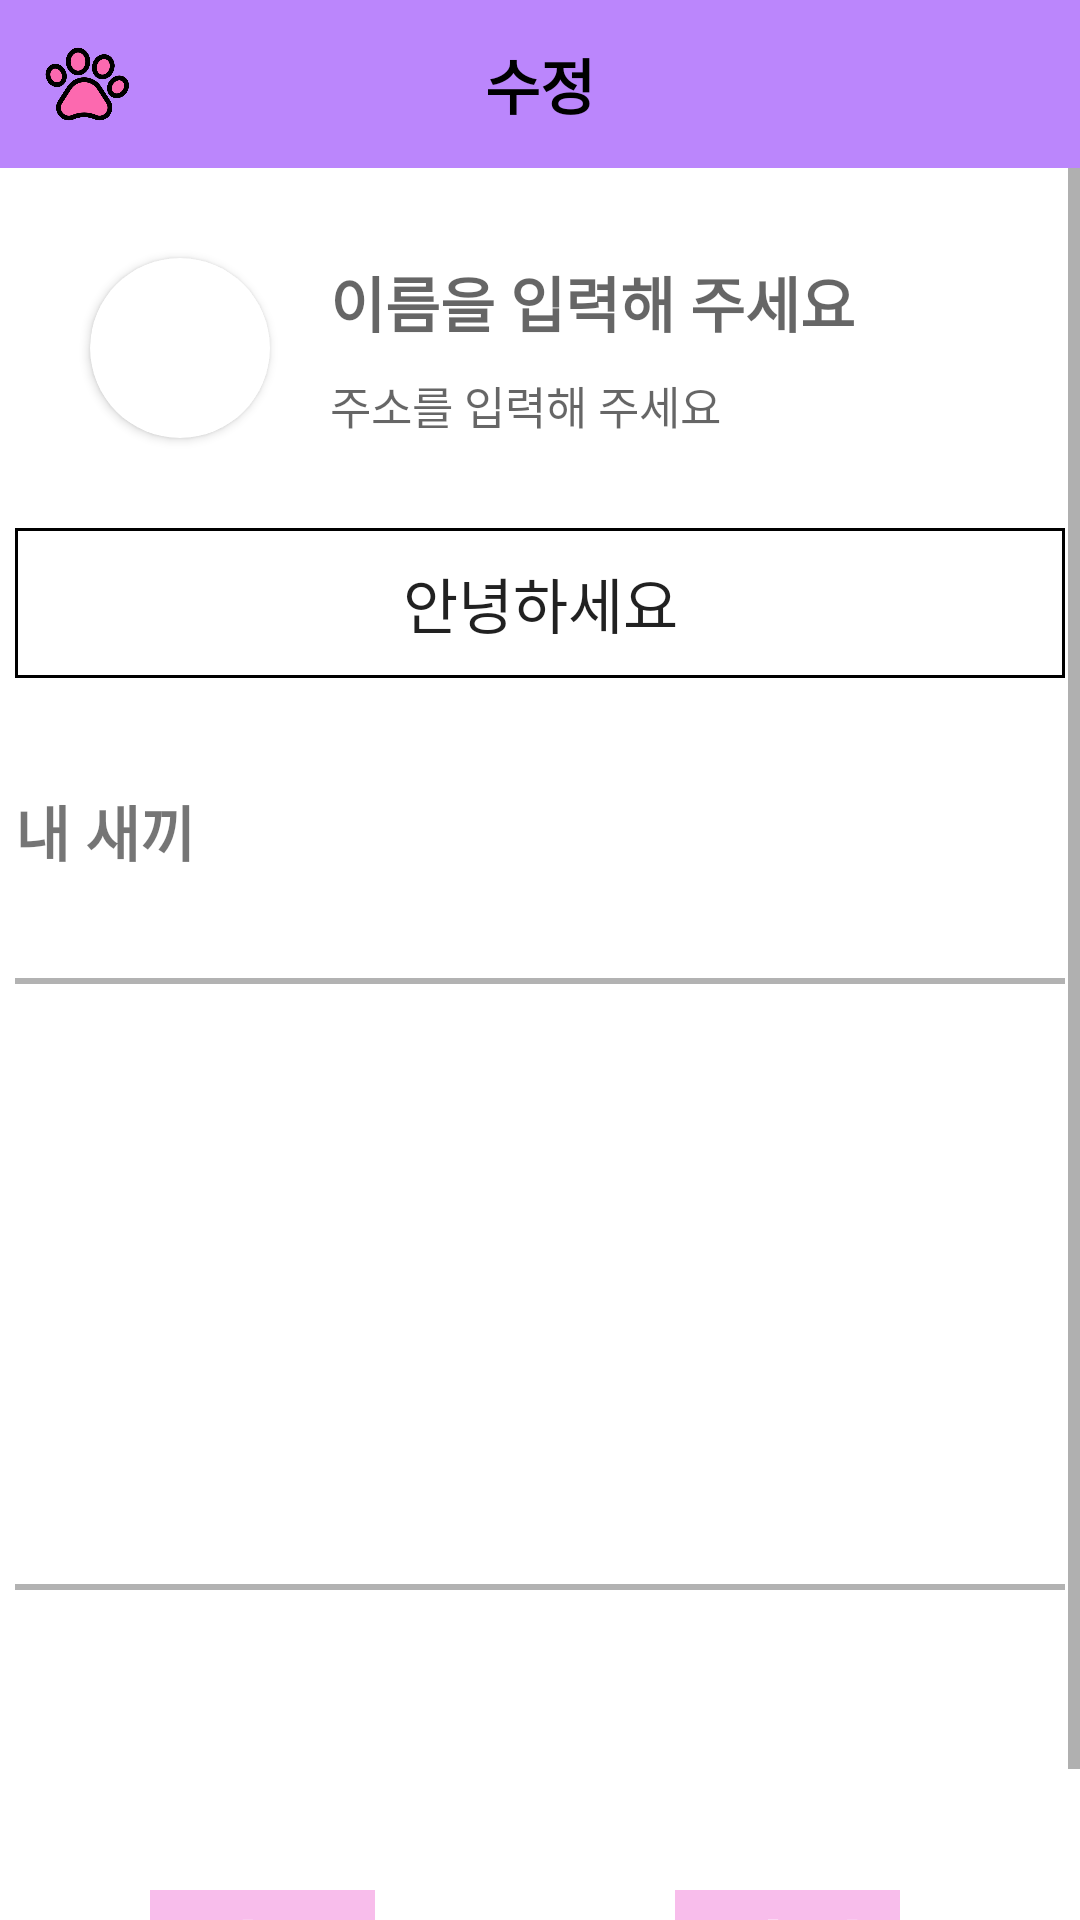

Icons on this 1080w x 1920h Android screen, each with the point to tap as (x=x, y=y):
pawprint on: (x=87, y=84)
